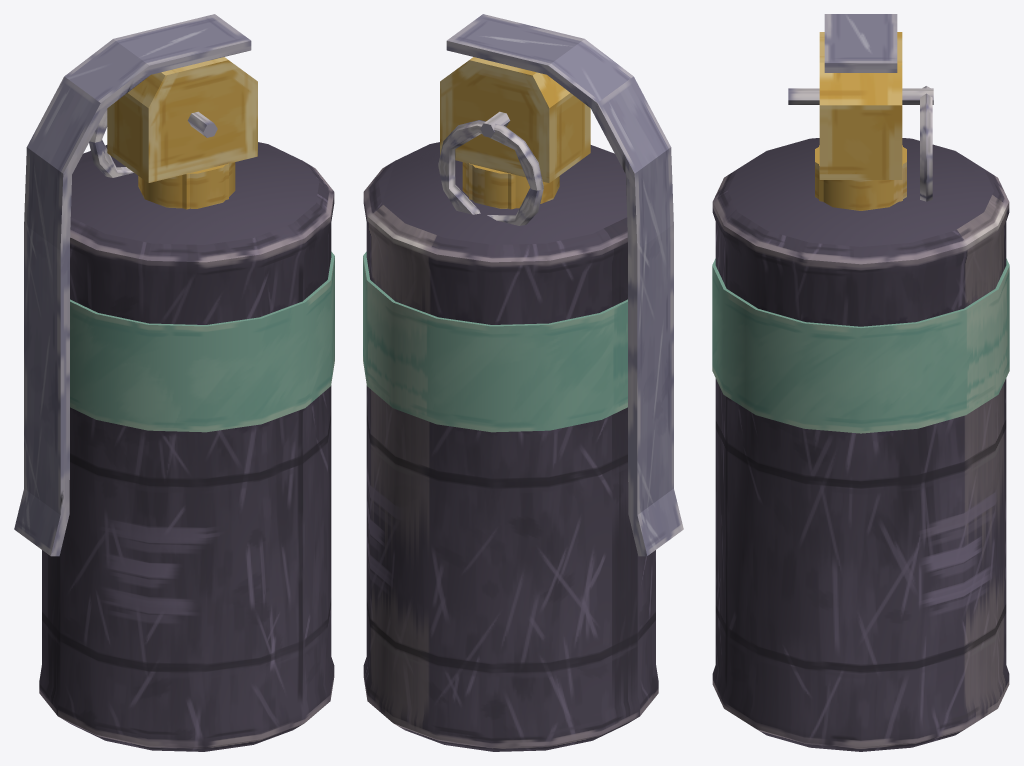
The model's file is smoke.bundle.fbx.
3 renders of one model, left to right at view 1: azimuth 30°, elevation 25°; view 2: azimuth 150°, elevation 25°; view 3: azimuth 270°, elevation 25°, orthographic.
Parts seen in each view (by area): view 1: smoke, smoke_low; view 2: smoke, smoke_low; view 3: smoke, smoke_low.
Part boxes in pixels (box(x1,y1,x2,y2)): smoke: box(14, 14, 334, 751); smoke_low: box(71, 57, 330, 324); smoke: box(363, 14, 683, 751); smoke_low: box(367, 57, 626, 318); smoke: box(712, 14, 1009, 751); smoke_low: box(712, 32, 1008, 327).
Size of the model in its own units: 0.2526 by 0.5591 by 0.2303.
Materials: 1 (1 with a texture image).
